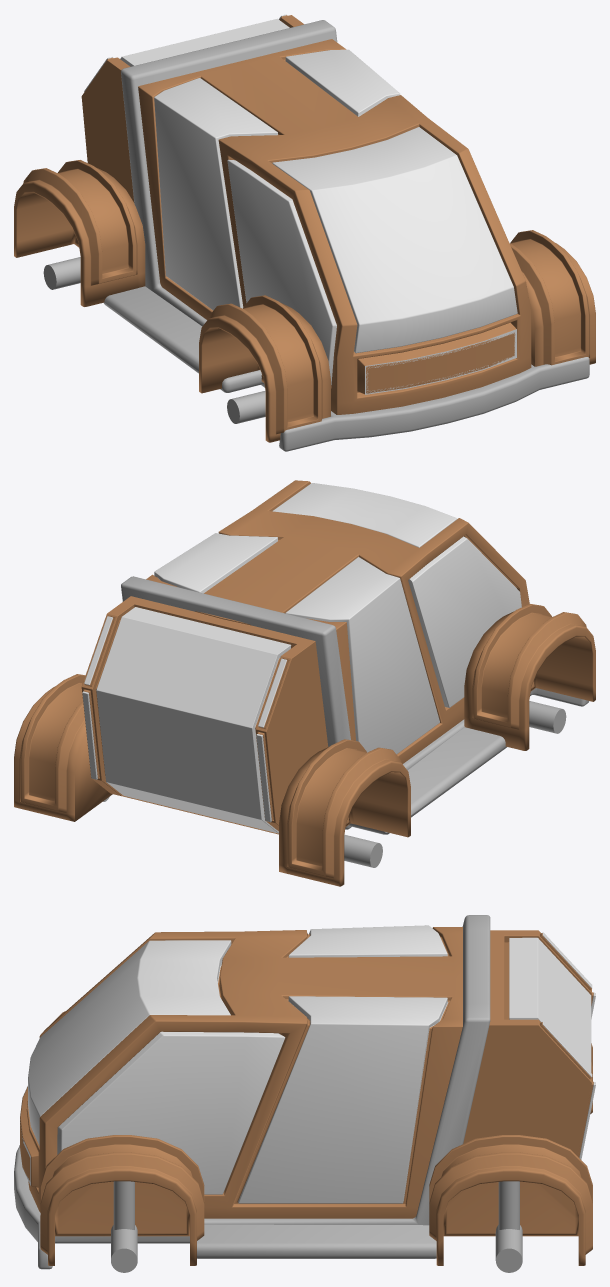
Rendered from Super Van OffRoad.fbx.
The picture shows the model from 3 angles, top to bottom: view 1: azimuth 30°, elevation 25°; view 2: azimuth 150°, elevation 25°; view 3: azimuth 270°, elevation 25°; orthographic projection. The views are drawn at different scales.
Visible parts, largest first — view 1: Van Cokpit, Van WheelBox, Van Chassi, Van Porta malas, Estribo, Eixo Supensao, Van Light; view 2: Van Cokpit, Van Porta malas, Van WheelBox, Van Chassi, Estribo, Van Brakelight, Eixo Supensao; view 3: Van Cokpit, Van WheelBox, Van Porta malas, Van Chassi, Estribo, Eixo Supensao, Suspensao, Van Brakelight.
Part boxes in pixels (x1=…): Van Cokpit: x1=138, y1=39, x2=531, y2=414; Van WheelBox: x1=14, y1=160, x2=595, y2=442; Van Chassi: x1=121, y1=20, x2=589, y2=451; Van Porta malas: x1=81, y1=15, x2=303, y2=202; Estribo: x1=104, y1=286, x2=263, y2=392; Eixo Supensao: x1=43, y1=257, x2=265, y2=423; Van Light: x1=365, y1=329, x2=516, y2=394; Van Cokpit: x1=146, y1=480, x2=529, y2=764; Van Porta malas: x1=81, y1=596, x2=328, y2=834; Van WheelBox: x1=14, y1=603, x2=595, y2=886; Van Chassi: x1=121, y1=576, x2=589, y2=829; Estribo: x1=348, y1=727, x2=506, y2=834; Van Brakelight: x1=82, y1=616, x2=286, y2=822; Eixo Supensao: x1=103, y1=701, x2=566, y2=867; Van Cokpit: x1=20, y1=925, x2=462, y2=1218; Van WheelBox: x1=40, y1=1011, x2=592, y2=1265; Van Porta malas: x1=463, y1=930, x2=593, y2=1157; Van Chassi: x1=14, y1=915, x2=490, y2=1269; Estribo: x1=197, y1=1224, x2=436, y2=1258; Eixo Supensao: x1=111, y1=1225, x2=522, y2=1272; Suspensao: x1=113, y1=1181, x2=519, y2=1229; Van Brakelight: x1=542, y1=932, x2=595, y2=1159.
Size of the model in its own units: 3.19 by 2 by 4.67.
